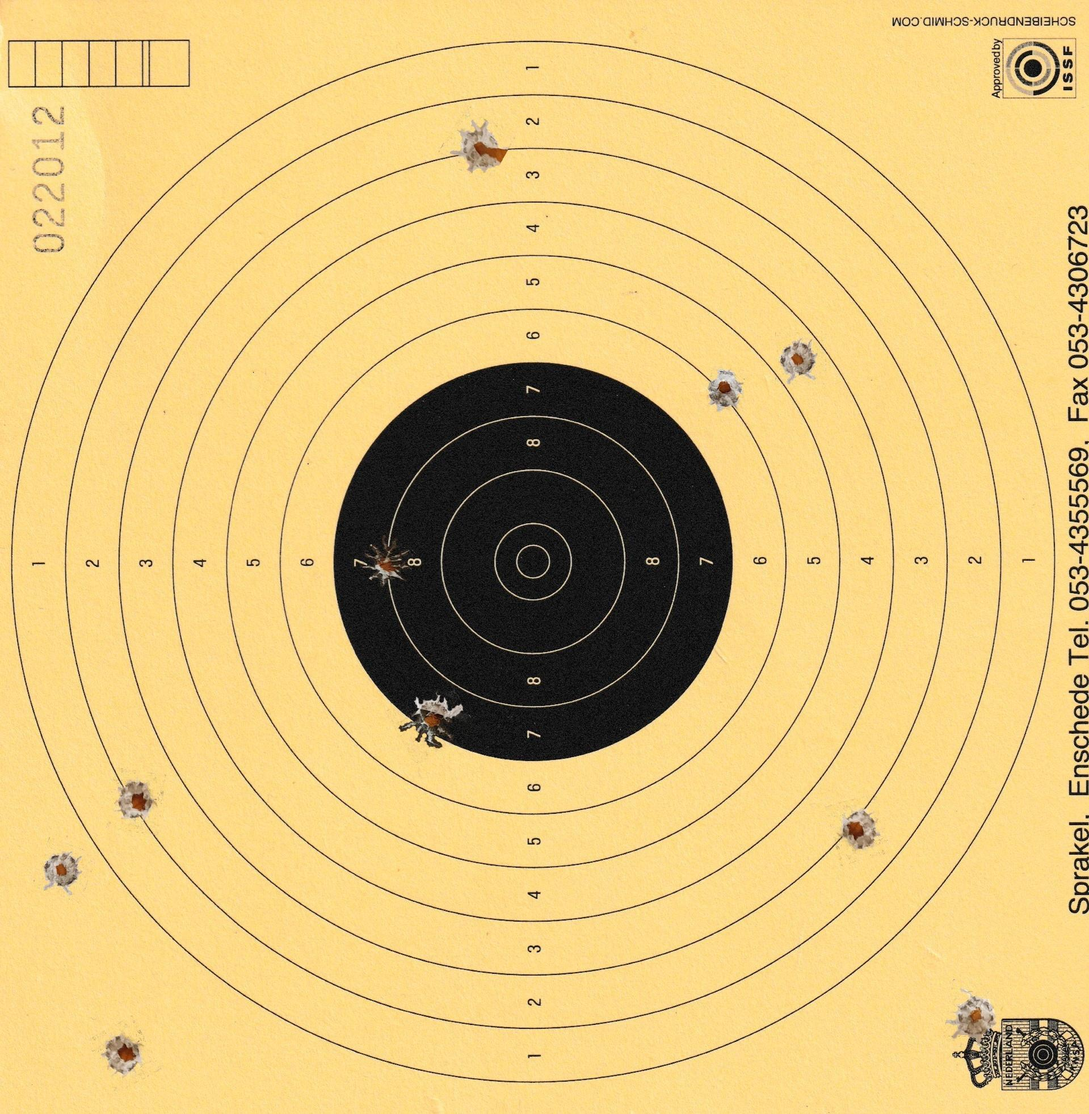hole: (398, 689, 470, 751), (449, 118, 513, 175), (358, 532, 415, 589), (943, 990, 1000, 1044), (837, 807, 884, 853), (38, 849, 84, 895), (99, 1031, 144, 1078), (703, 368, 748, 414), (778, 336, 819, 384), (112, 779, 156, 823)
